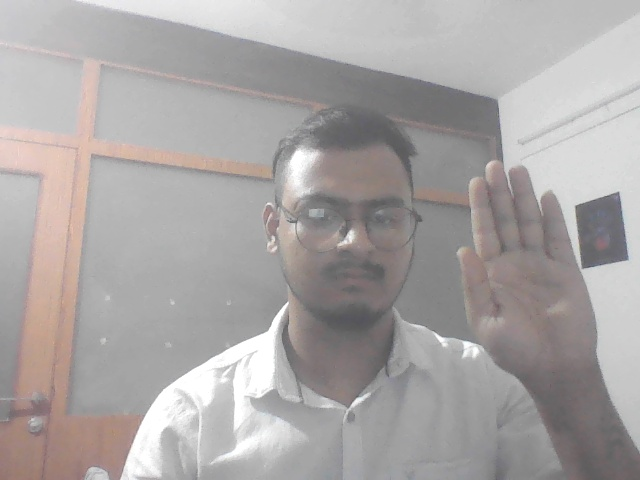Hello: (456, 154, 606, 384)
